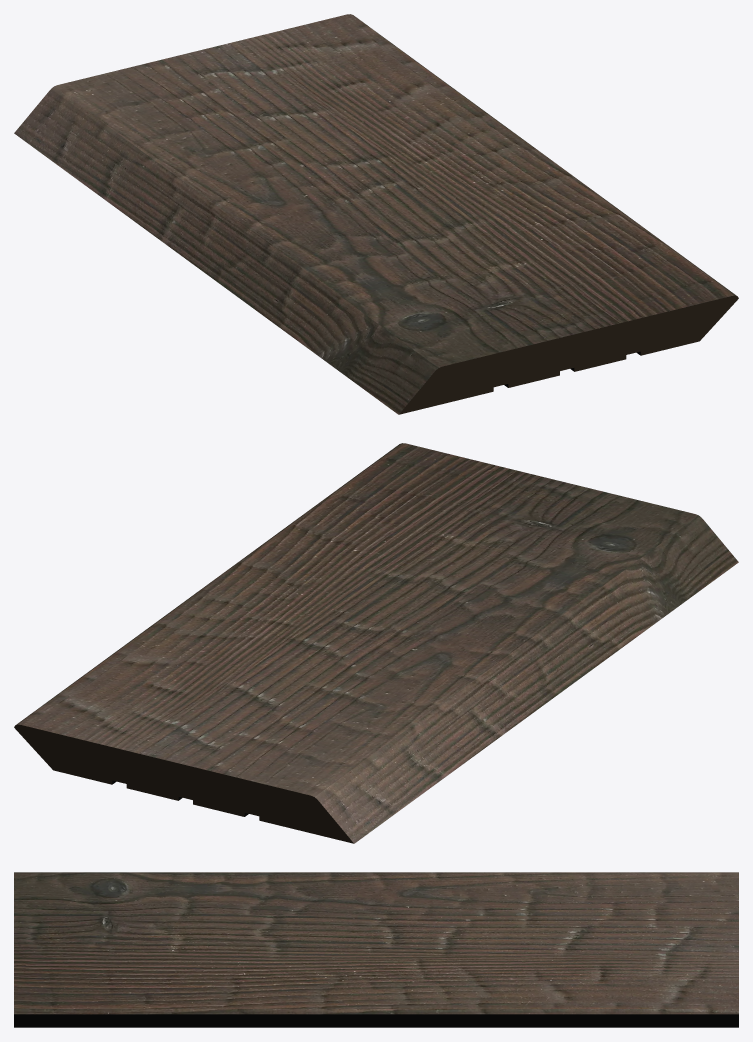
The model's file is thermo-facade-rhombus-dark-brown.glb.
3 views of the same model, one above another, from view 1: azimuth 30°, elevation 25°; view 2: azimuth 150°, elevation 25°; view 3: azimuth 270°, elevation 25° (orthographic). The views are drawn at different scales.
Visible parts, largest first — view 1: Rombas; view 2: Rombas; view 3: Rombas.
Boxes of the visible parts, x1,y1,x2,y2 form: Rombas: [14, 14, 738, 414]; Rombas: [14, 443, 738, 843]; Rombas: [14, 872, 738, 1027].
Bounding box in the file's own units: 0.0942 × 0.00994 × 0.1843.
3 materials, 1 textured.
